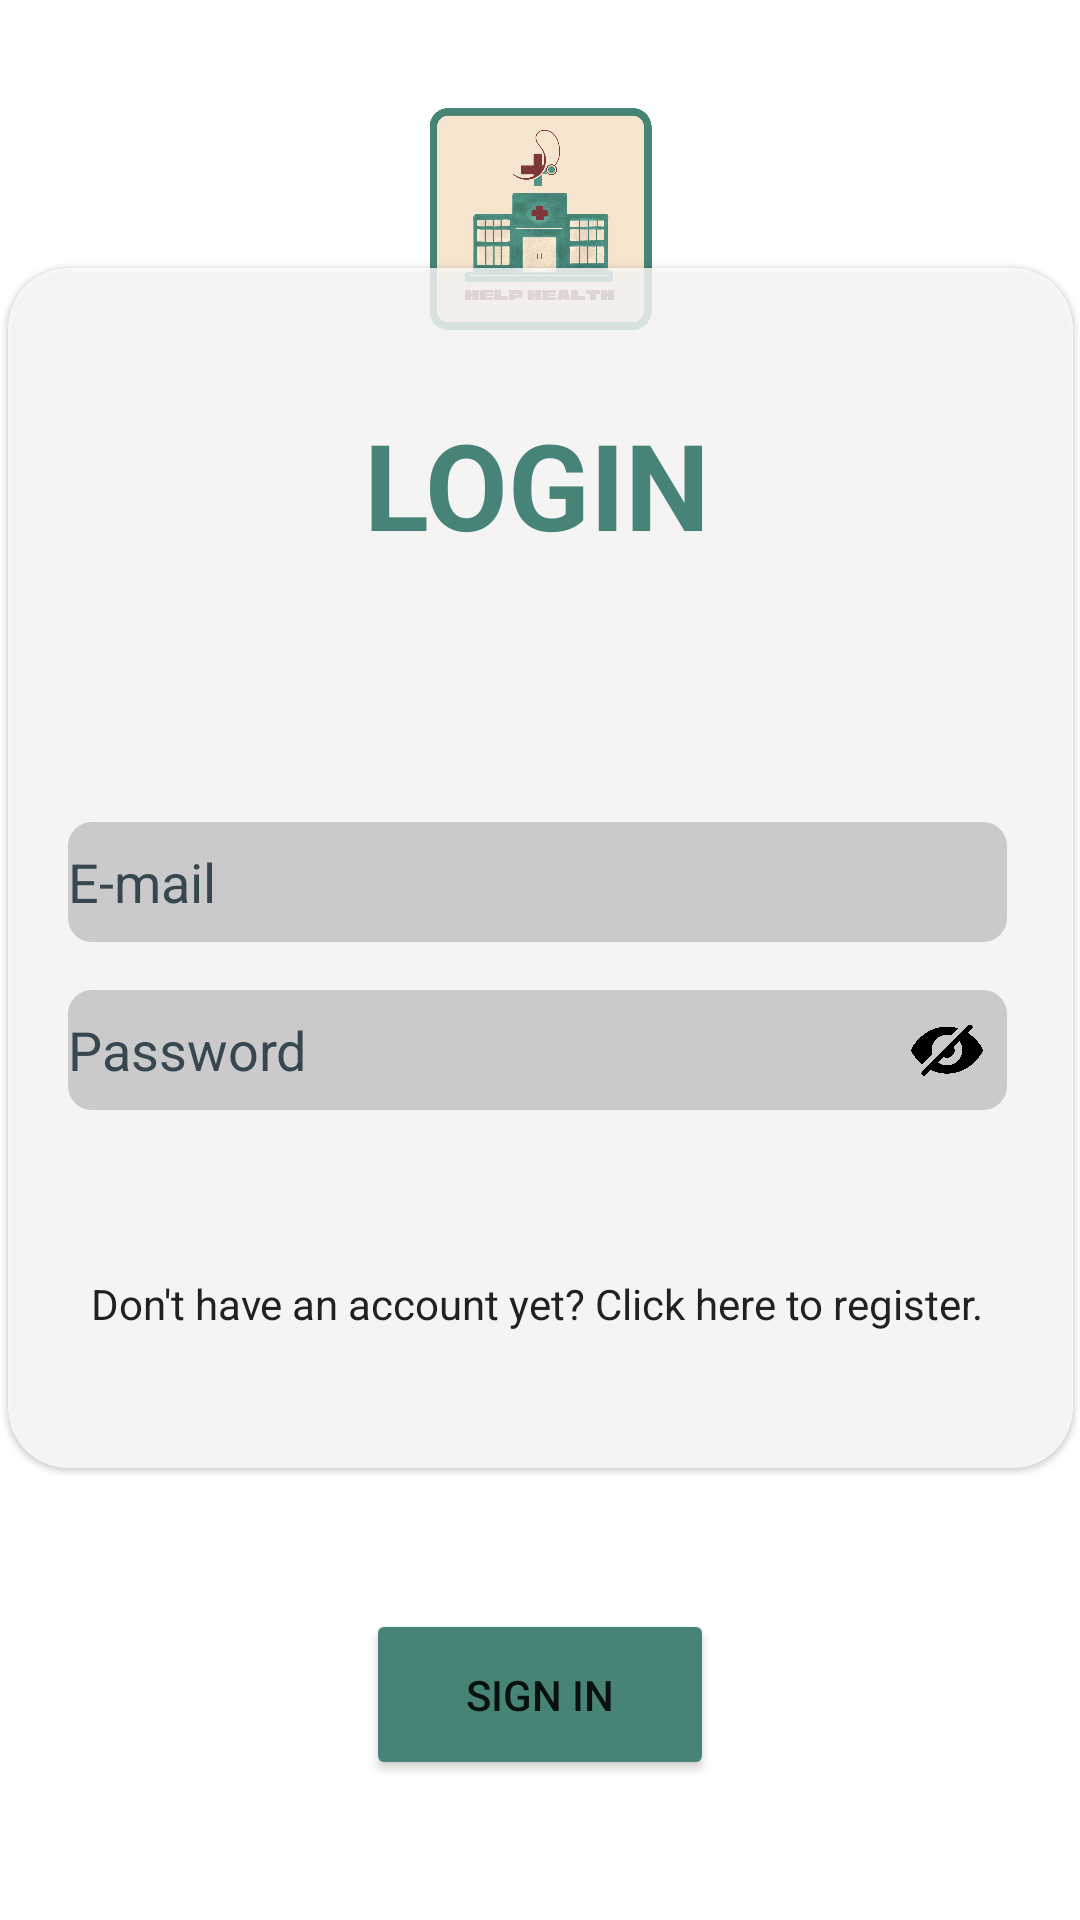

Icon click points for this 1080x1920 phone screenshot, format (x=x, y=y):
eyeclose: (x=947, y=1050)
